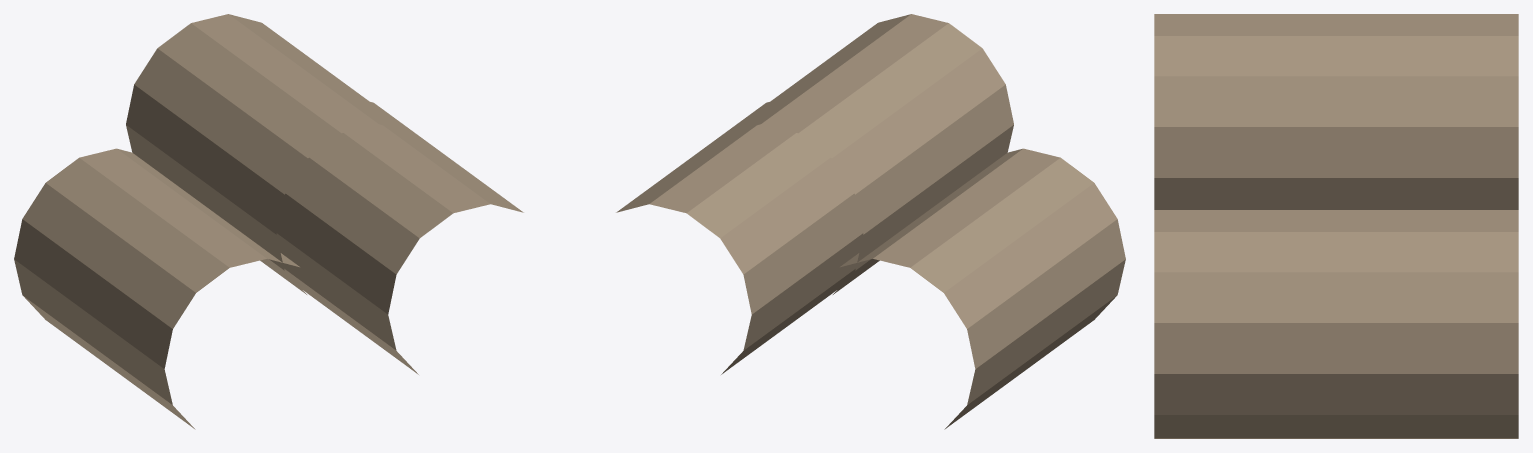
File: barrel_cluster.glb
3 renders of one model, left to right at view 1: azimuth 30°, elevation 25°; view 2: azimuth 150°, elevation 25°; view 3: azimuth 270°, elevation 25°, orthographic. The views are drawn at different scales.
Parts seen in each view (by area): view 1: world; view 2: world; view 3: world.
Part boxes in pixels (x1,y1,x2,y2): world: (14,14,523,429); world: (616,14,1125,429); world: (1154,14,1518,438).
Size of the model in its own units: 2.1 by 1.43 by 1.4.
